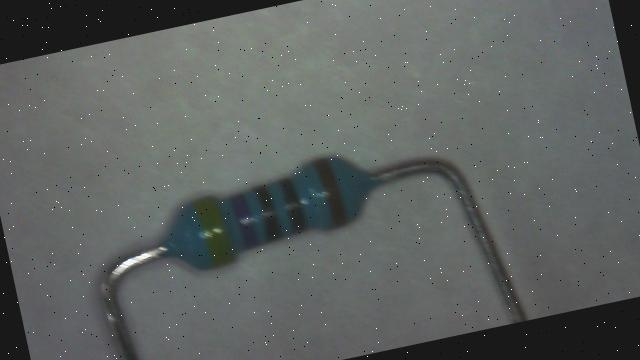black: (278, 176, 308, 234), (254, 184, 284, 242)
brown: (312, 156, 349, 229)
resistor: (140, 122, 394, 296)
violet: (230, 192, 260, 248)
yellow: (193, 194, 236, 267)
